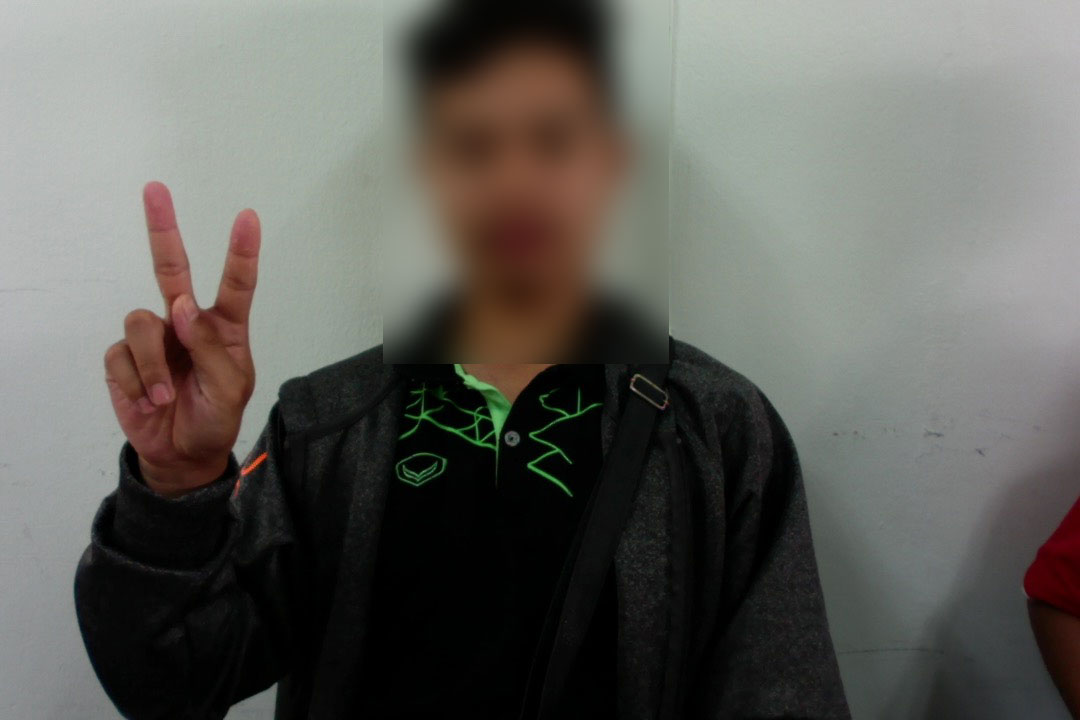ko: (96, 176, 263, 494)
